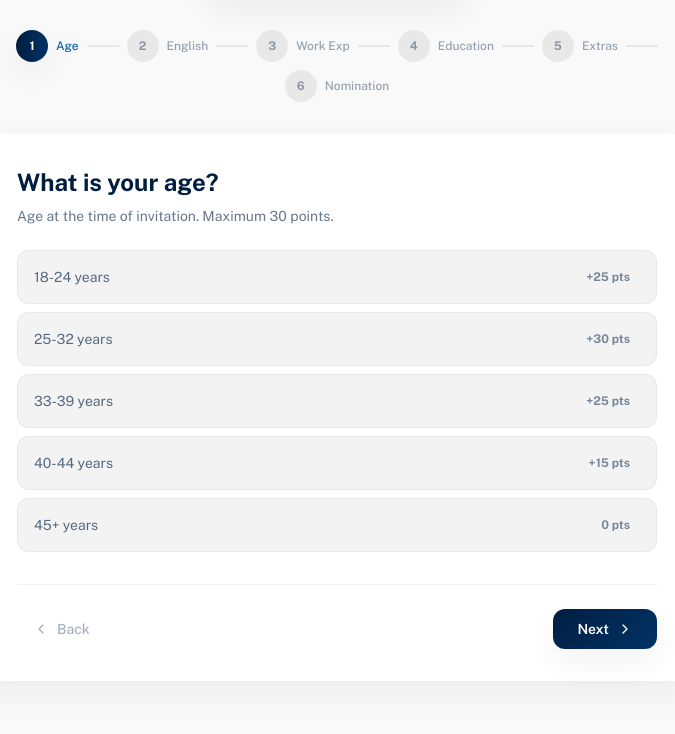
Test: PointsCalculatorPage › navigates back to previous step
(page scrolled)
Click the button "Next" at {"x": 605, "y": 629}, box [553, 609, 657, 649]
(page scrolled)
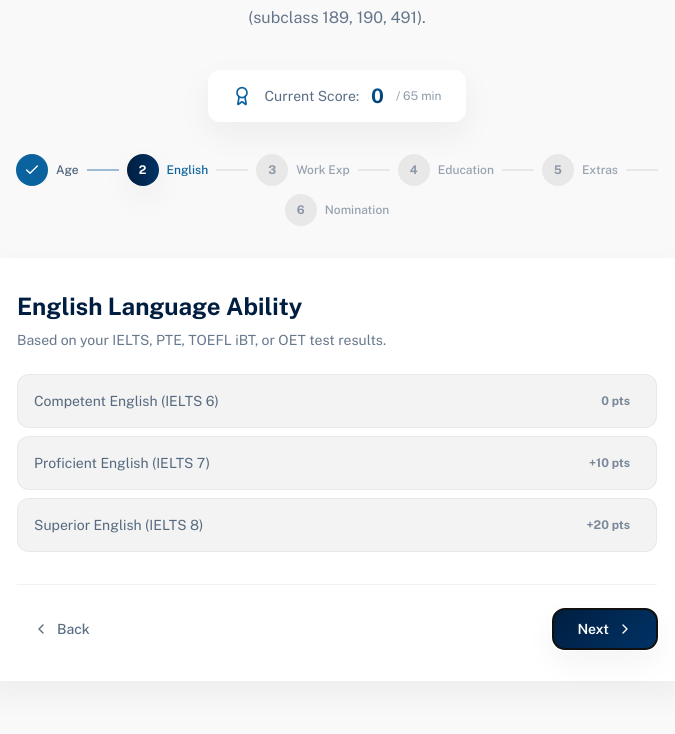
Now the heading "English Language Ability" is shown, box [17, 292, 302, 320]
Click the button "Back" at {"x": 61, "y": 629}, box [17, 611, 106, 647]
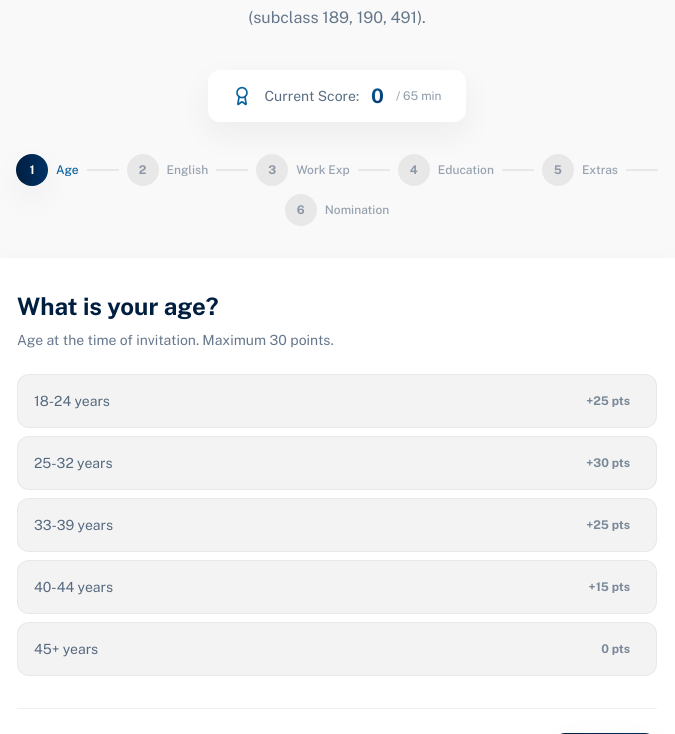
Now the heading "What is your age?" is shown, box [17, 292, 218, 320]
